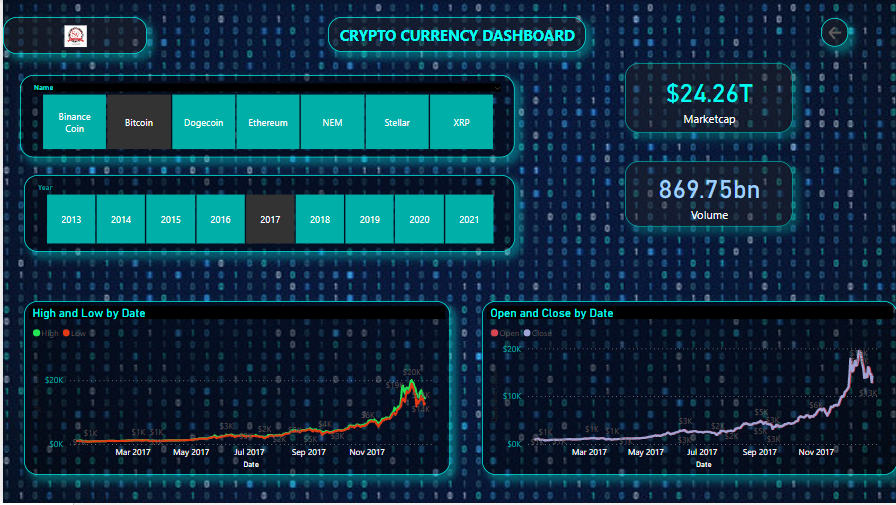

This screenshot's page, from the dashboard's own definition file:
{"tool":"powerbi","page":{"name":"Detailed","canvas":[1280,720],"ordinal":1},"visuals":[{"type":"slicer","fields":{"Values":["Crypto_data.Name"]},"box":[0,127.4,627.9,101.6],"z":0},{"type":"slicer","fields":{"Values":["Crypto_data.Year"]},"box":[652.1,127.4,627.9,112.2],"z":1000},{"type":"shape","box":[0,0,1279.7,113.1],"z":2000},{"type":"textbox","box":[391.3,24.3,497.4,66.7],"z":3000},{"type":"card","title":"Market Cap","fields":{"Values":["Sum(Crypto_data.Marketcap)"]},"box":[16.7,283.6,227.5,100.1],"z":4000},{"type":"card","title":"Volume","fields":{"Values":["Sum(Crypto_data.Volume)"]},"box":[268.4,288.2,219.9,98.6],"z":5000},{"type":"card","title":"LOW VALUE","fields":{"Values":["Sum(Crypto_data.Marketcap)"]},"box":[1007,283.6,221.4,103.1],"z":6000},{"type":"card","title":"AVERAGE","fields":{"Values":["Avg(Crypto_data.AVG)"]},"box":[755.3,286.6,222.9,103.1],"z":7000},{"type":"card","title":"HIGH VALUE","fields":{"Values":["Max(Crypto_data.High)"]},"box":[506.5,288.2,227.5,101.6],"z":8000},{"type":"shape","box":[697.6,288.2,21.2,28.8],"z":9000},{"type":"shape","box":[1199.6,289.7,18.2,25.8],"z":10000},{"type":"lineChart","fields":{"Category":["Crypto_data.Date"],"Y":["Sum(Crypto_data.High)","Sum(Crypto_data.Low)"]},"box":[30.3,430.7,609.7,248.7],"z":11000},{"type":"lineChart","fields":{"Category":["Crypto_data.Date"],"Y":["Sum(Crypto_data.Open)","Sum(Crypto_data.Close)"]},"box":[668.5,430.9,594,249.1],"z":12000},{"type":"actionButton","box":[17.2,24.3,48.7,32.9],"z":13000}]}

Visuals, with their boxes in screenshot pixels (x1, y1, x2, y2), scaled from the page's 1280x720 canvas onto the 896x505 screenshot:
slicer - Crypto_data.Name: bbox(0, 89, 440, 161)
slicer - Crypto_data.Year: bbox(456, 89, 895, 168)
shape: bbox(0, 0, 895, 79)
textbox: bbox(274, 17, 622, 64)
"Market Cap" card: bbox(12, 199, 171, 269)
"Volume" card: bbox(188, 202, 342, 271)
"LOW VALUE" card: bbox(705, 199, 860, 271)
"AVERAGE" card: bbox(529, 201, 685, 273)
"HIGH VALUE" card: bbox(355, 202, 514, 273)
shape: bbox(488, 202, 503, 222)
shape: bbox(840, 203, 852, 221)
lineChart - Crypto_data.Date x Sum(Crypto_data.High): bbox(21, 302, 448, 477)
lineChart - Crypto_data.Date x Sum(Crypto_data.Open): bbox(468, 302, 884, 477)
actionButton: bbox(12, 17, 46, 40)
